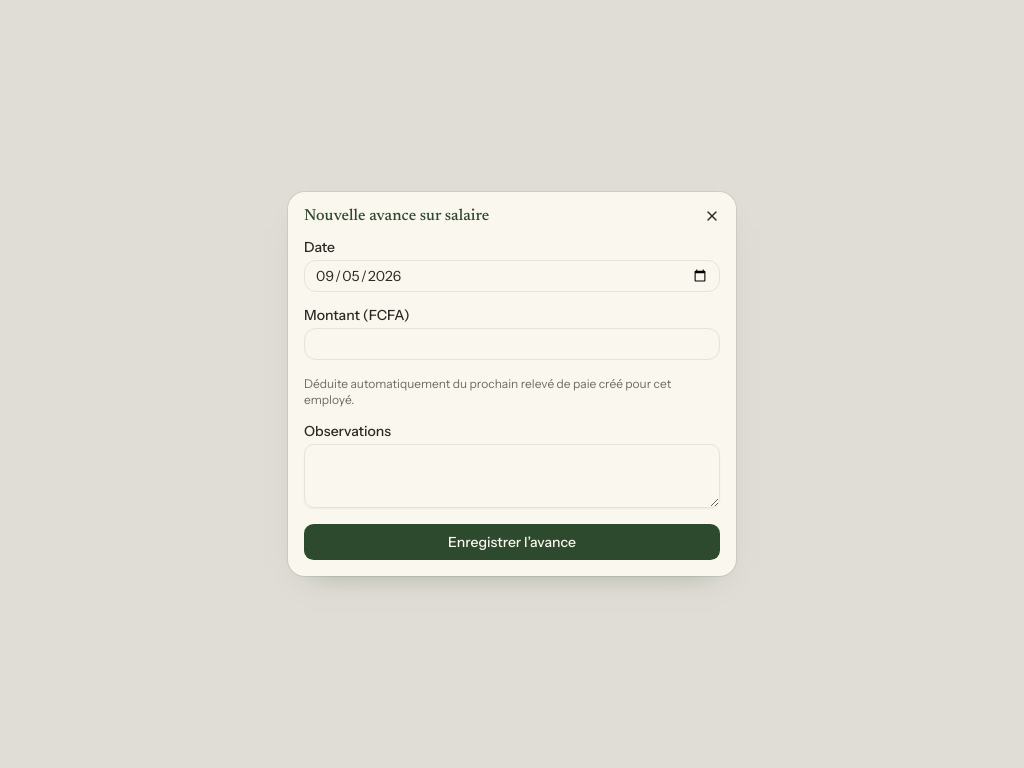
SalaryAdvanceDialog › affiche une erreur de validation si le montant est vide
The width and height of the screenshot is (1024, 768).
Click the button "Enregistrer l’avance".
click(512, 542)  # box [304,524,720,560]
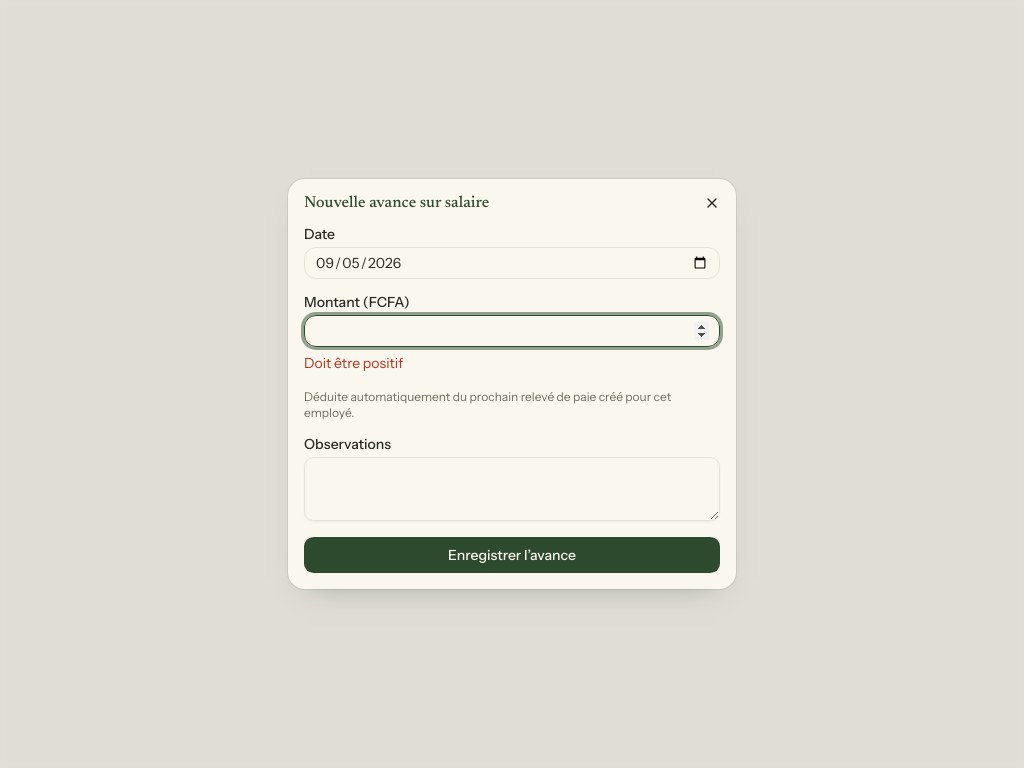
Result: the text "Doit être positif" is shown at [304,354,403,372]
